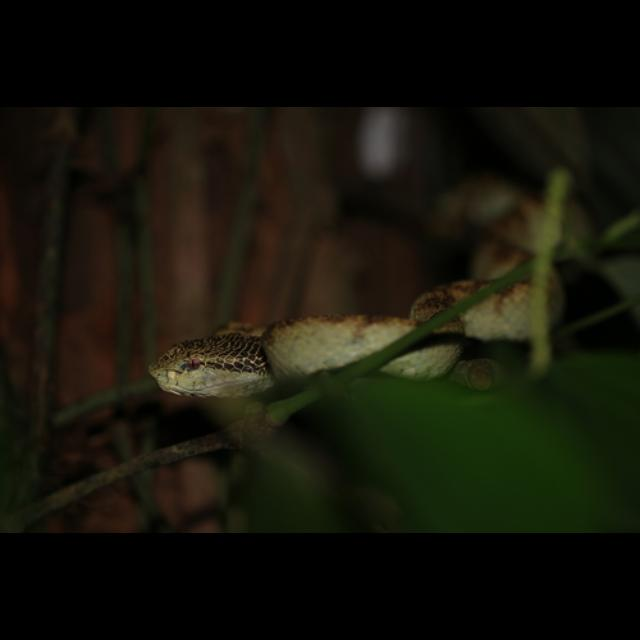snake: (133, 310, 461, 392)
